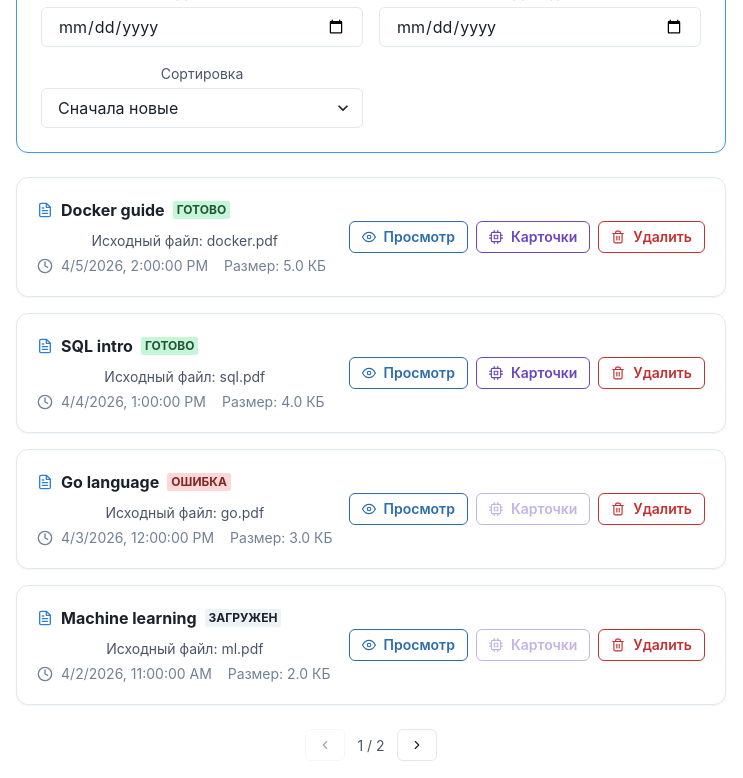
Test: Profile page › supports pagination
(page scrolled)
Expected: the text "Docker guide" is shown, [61, 198, 165, 222]
Expected: the text "Python basics" is not shown
Click the 6th button at x=417, y=745, box [397, 729, 437, 761]
(page scrolled)
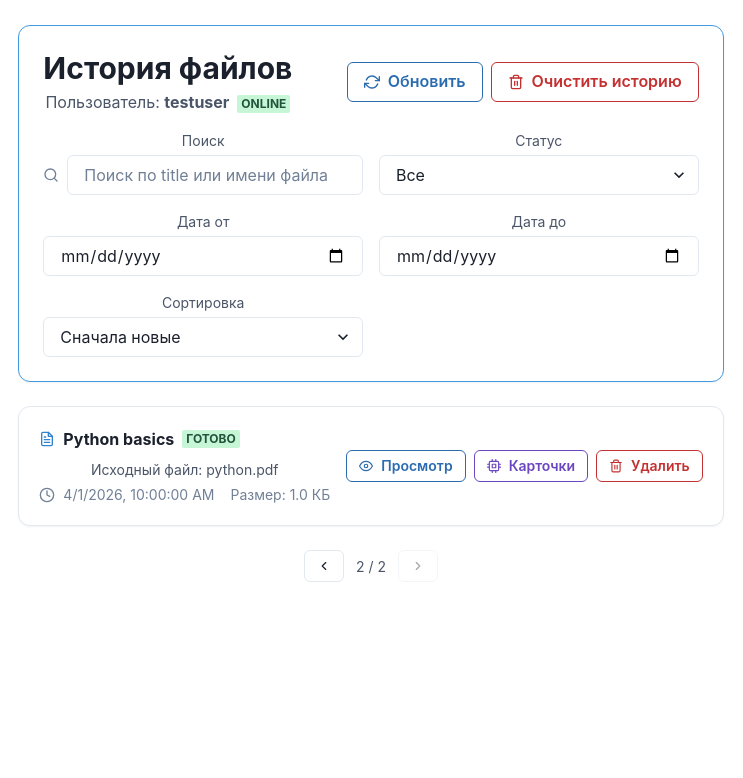
Now the text "Python basics" is shown, box [63, 427, 174, 451]
